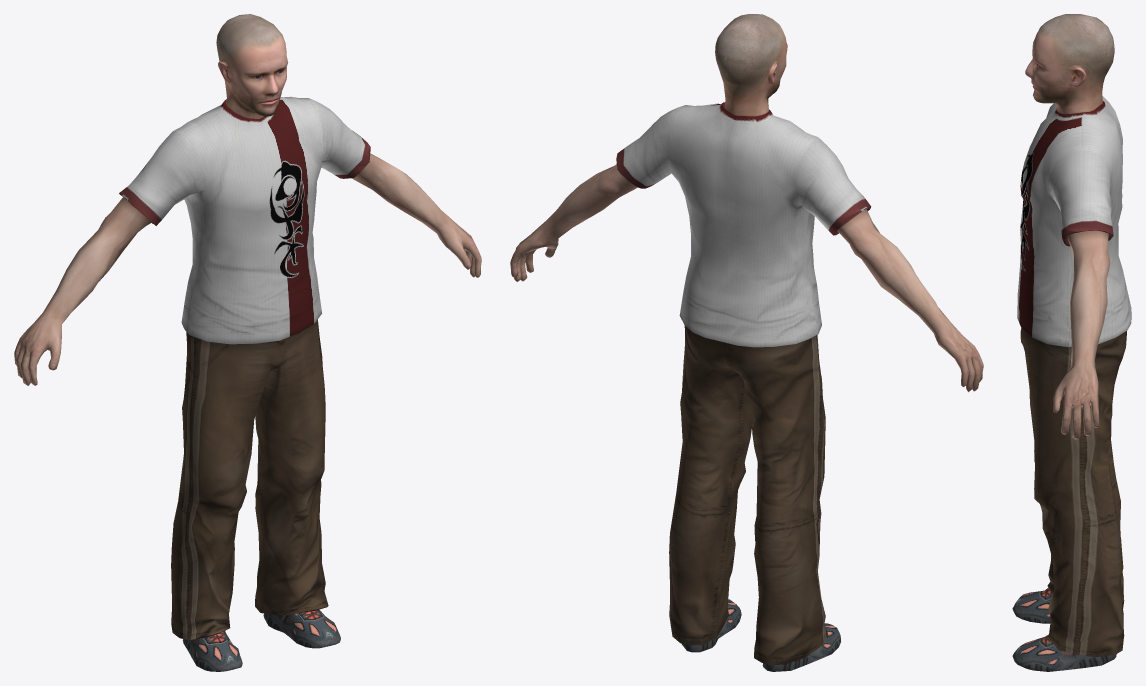
Rendered from sportive09_m.fbx.
3 views of the same model, side by side, from view 1: azimuth 30°, elevation 25°; view 2: azimuth 150°, elevation 25°; view 3: azimuth 270°, elevation 25° (orthographic).
Visible parts, largest first — view 1: sportive09_m_highpoly; view 2: sportive09_m_highpoly; view 3: sportive09_m_highpoly.
Part boxes in pixels (box(x1,y1,x2,y2)): sportive09_m_highpoly: box(14, 14, 481, 671); sportive09_m_highpoly: box(510, 14, 983, 671); sportive09_m_highpoly: box(1012, 14, 1131, 671).
Bounding box in the file's own units: 140 × 182 × 31.52.
